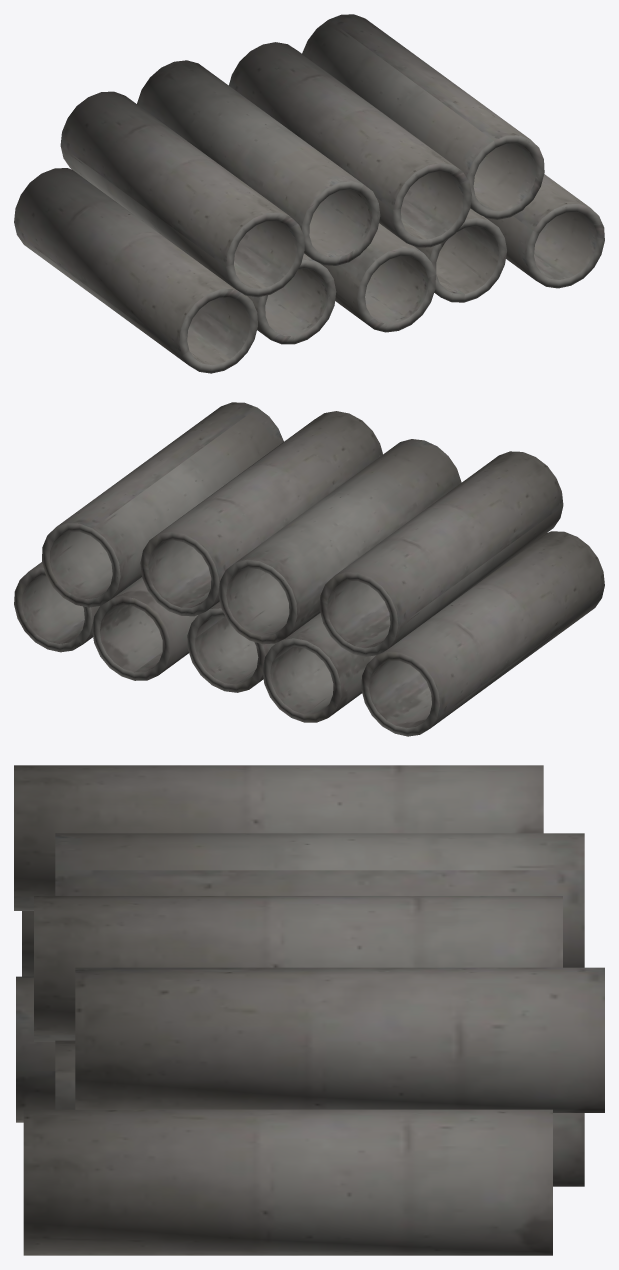
Rendered from Concrete_Pipe_2.glb.
3 renders of one model, top to bottom at view 1: azimuth 30°, elevation 25°; view 2: azimuth 150°, elevation 25°; view 3: azimuth 270°, elevation 25°, orthographic. The views are drawn at different scales.
Parts seen in each view (by area): view 1: Concrete_Pipe_2; view 2: Concrete_Pipe_2; view 3: Concrete_Pipe_2.
Part boxes in pixels (x1,y1,x2,y2): Concrete_Pipe_2: [14, 14, 604, 373]; Concrete_Pipe_2: [14, 402, 604, 736]; Concrete_Pipe_2: [14, 765, 604, 1255].
Bounding box in the file's own units: 10.16 × 3.48 × 7.62.
Materials: 1 (1 with a texture image).
